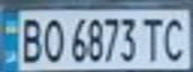3: (118, 14, 142, 63)
6: (66, 15, 87, 63)
7: (103, 15, 121, 63)
8: (84, 15, 106, 63)
B: (15, 13, 45, 64)
C: (160, 12, 193, 63)
O: (39, 13, 66, 64)
T: (139, 14, 166, 63)
